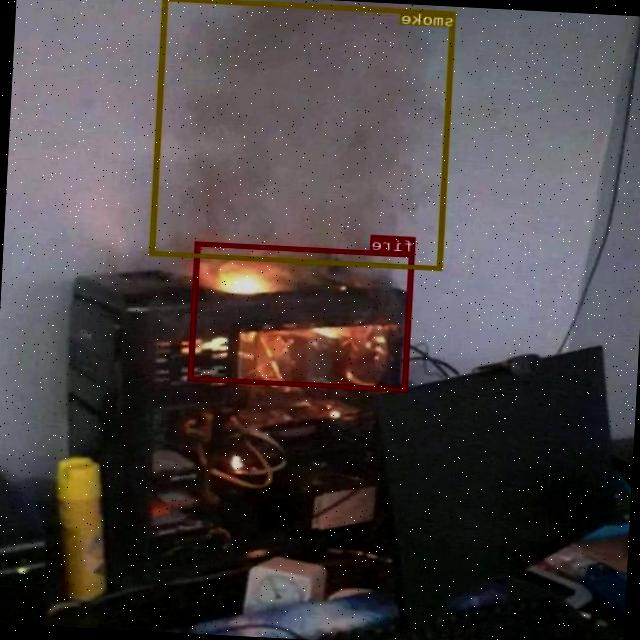fire: (189, 240, 416, 392)
smoke: (151, 0, 456, 270)
